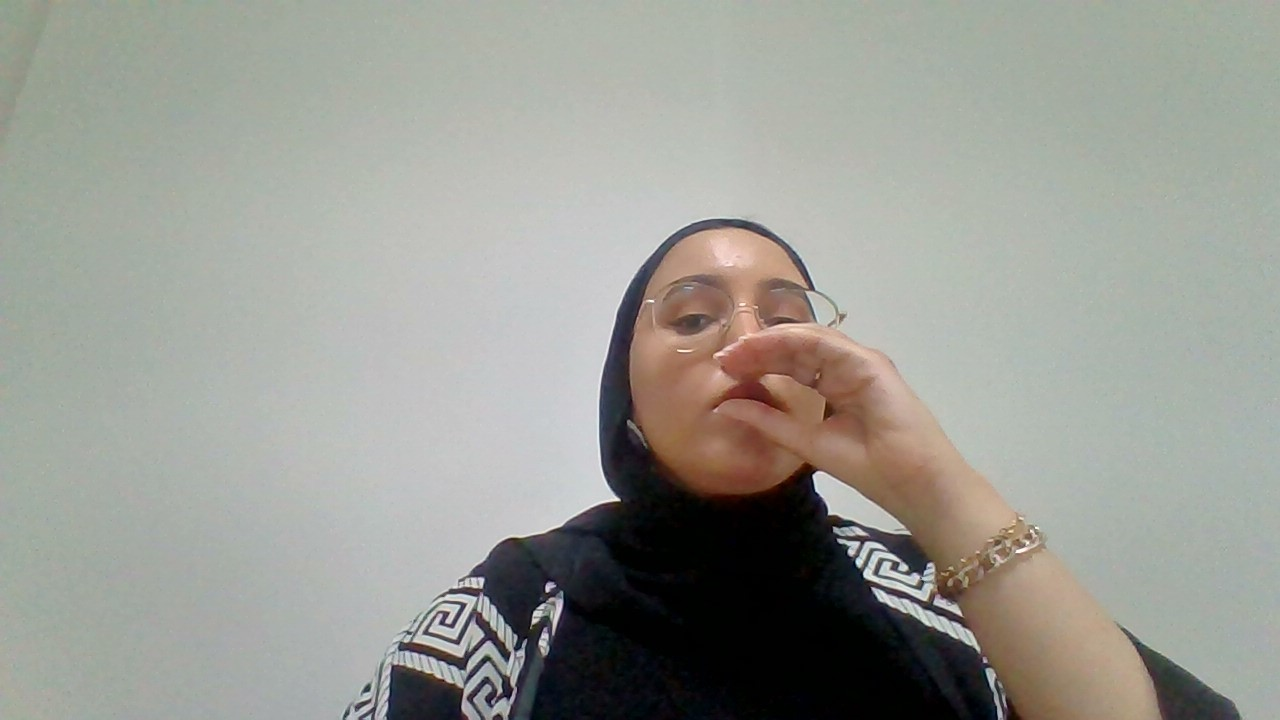drink: (704, 318, 949, 493)
